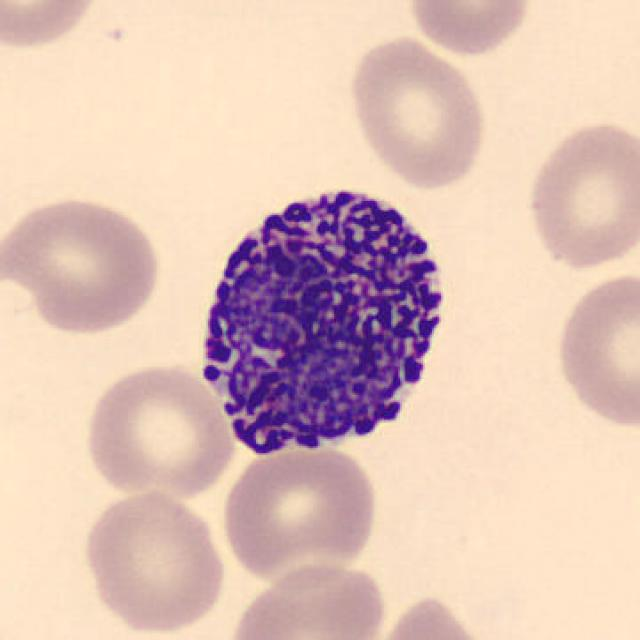Basophil: (180, 164, 470, 472)
RBC: (2, 190, 167, 337), (217, 439, 382, 584), (78, 485, 230, 636), (345, 34, 492, 190), (80, 360, 238, 500), (521, 113, 638, 273), (549, 268, 640, 430), (224, 559, 391, 640), (403, 0, 537, 58), (368, 592, 492, 640), (0, 0, 107, 53)
